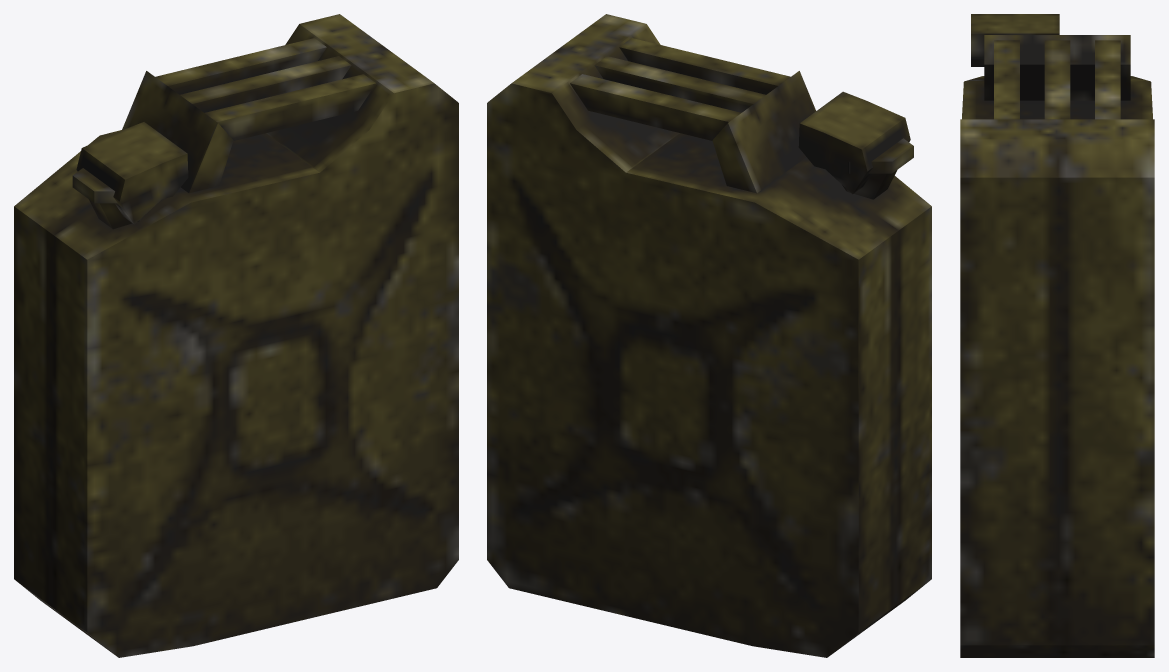
The model's file is JerryCan.fbx.
The picture shows the model from 3 angles, left to right: view 1: azimuth 30°, elevation 25°; view 2: azimuth 150°, elevation 25°; view 3: azimuth 270°, elevation 25°; orthographic projection. The views are drawn at different scales.
Parts seen in each view (by area): view 1: JerryCan; view 2: JerryCan; view 3: JerryCan.
Part boxes in pixels (bbox=[...]): JerryCan: bbox=[14, 14, 458, 657]; JerryCan: bbox=[487, 14, 931, 657]; JerryCan: bbox=[960, 14, 1154, 657].
Size of the model in its own units: 34.12 by 45.84 by 15.52.
Materials: 1 (1 with a texture image).
